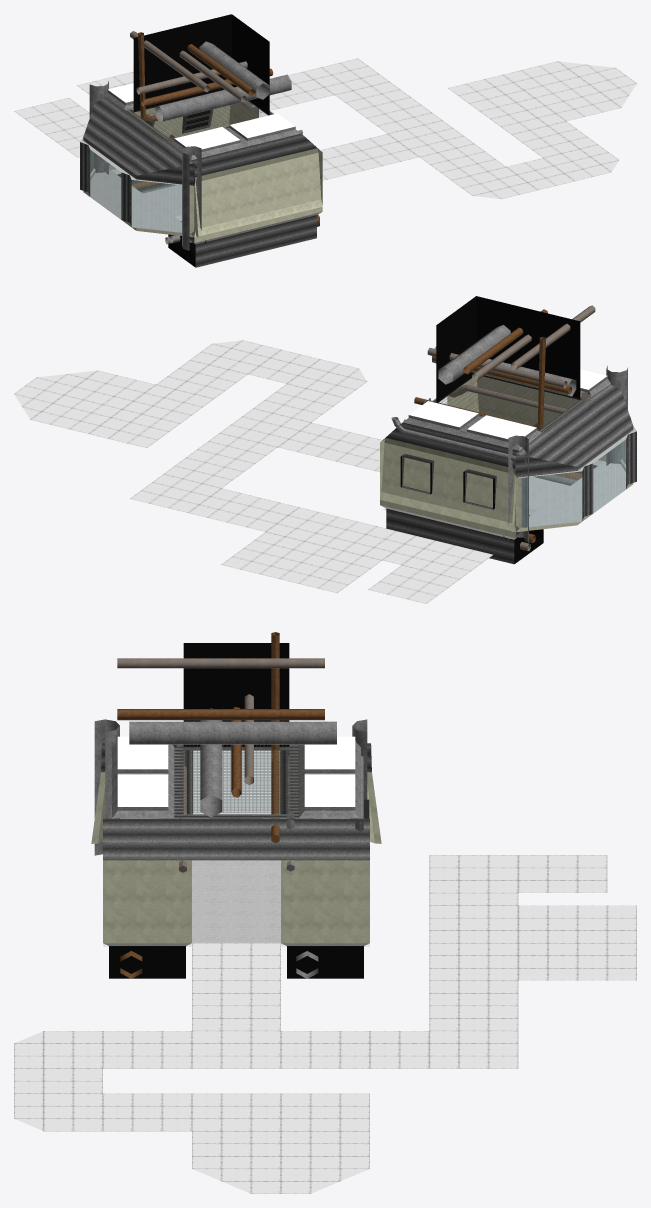
File: ship.glb
3 renders of one model, top to bottom at view 1: azimuth 30°, elevation 25°; view 2: azimuth 150°, elevation 25°; view 3: azimuth 270°, elevation 25°, orthographic. The views are drawn at different scales.
Parts seen in each view (by area): view 1: ship_mesh-col; view 2: ship_mesh-col; view 3: ship_mesh-col.
Part boxes in pixels (x1,y1,x2,y2): ship_mesh-col: [14, 14, 636, 267]; ship_mesh-col: [14, 296, 636, 603]; ship_mesh-col: [14, 632, 636, 1193].
Bounding box in the file's own units: 29.22 × 9.86 × 21.
Materials: 14 (12 with a texture image).
